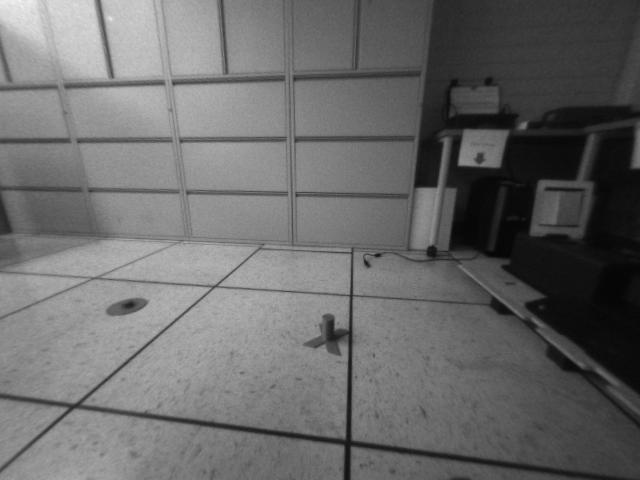X: (301, 311, 350, 355)
